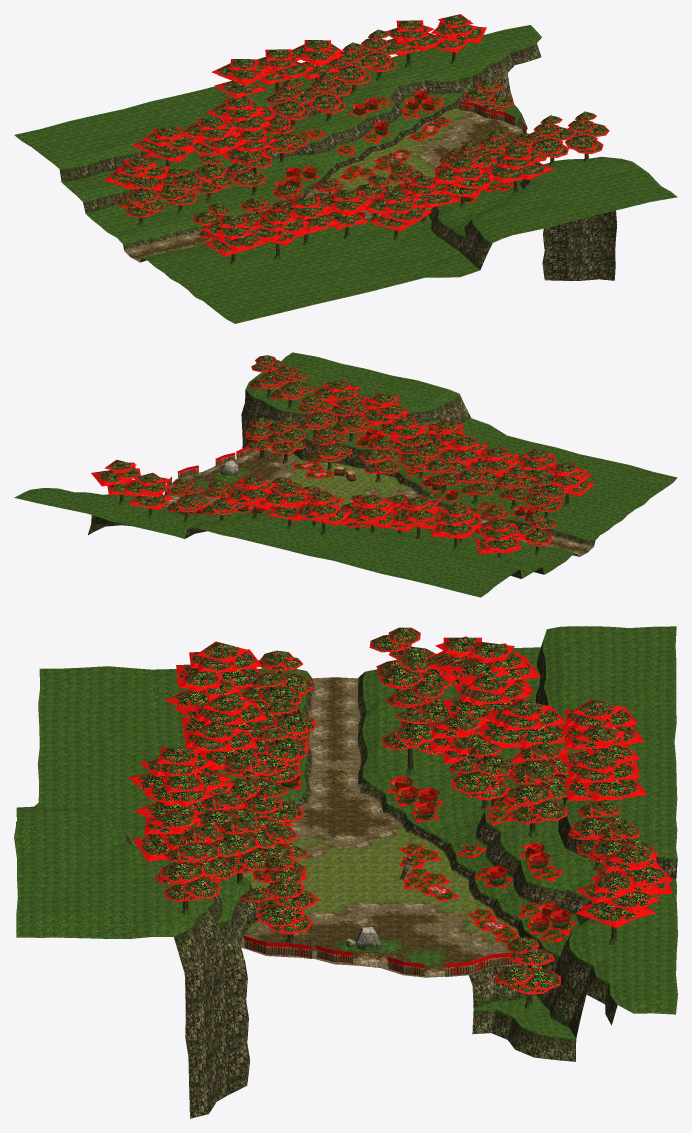
The model's file is Hamel1.obj.
The picture shows the model from 3 angles, top to bottom: view 1: azimuth 30°, elevation 25°; view 2: azimuth 150°, elevation 25°; view 3: azimuth 270°, elevation 25°; orthographic projection. The views are drawn at different scales.
Parts seen in each view (by area): view 1: Object.1; view 2: Object.1; view 3: Object.1.
Part boxes in pixels (x1,y1,x2,y2): Object.1: [14, 14, 677, 323]; Object.1: [14, 352, 677, 597]; Object.1: [14, 626, 677, 1118].
Size of the model in its own units: 76.15 by 24.88 by 58.35.
11 materials, 11 textured.
